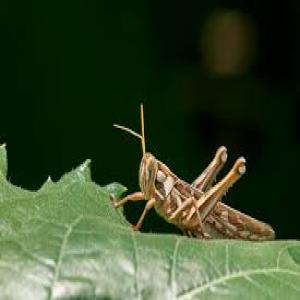locust: (115, 96, 276, 254)
